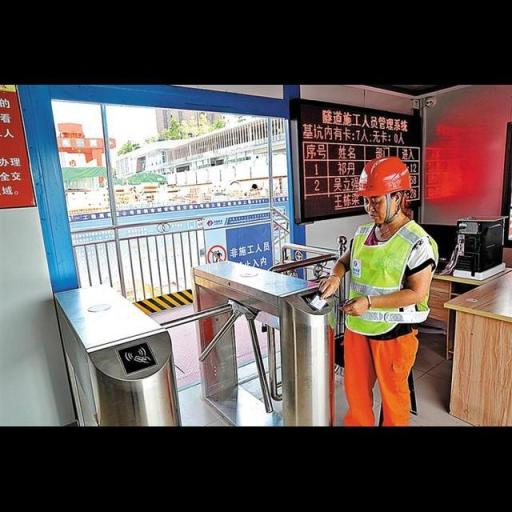Person: (319, 138, 448, 464)
gloves: (174, 231, 206, 261)
helmet: (349, 154, 423, 192)
none: (339, 286, 373, 321), (313, 270, 346, 304)
vest: (342, 216, 444, 334)
